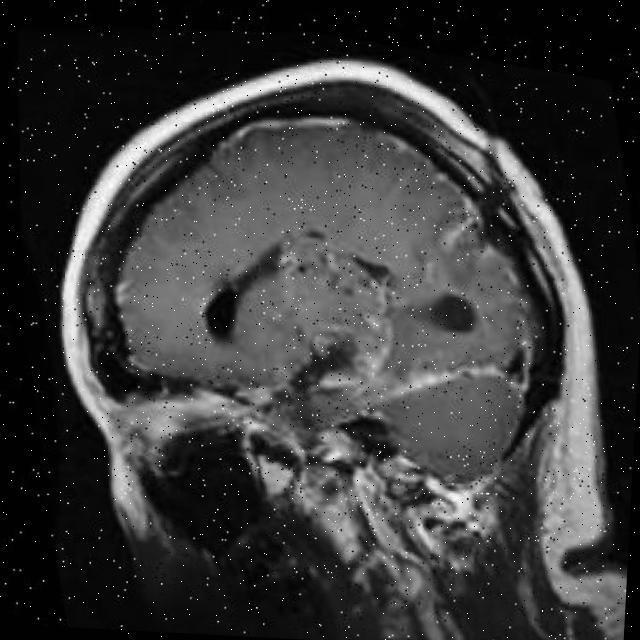MCI: (322, 226, 546, 420)
